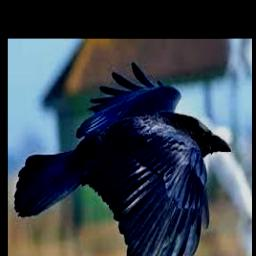Crow: (13, 61, 231, 256)
